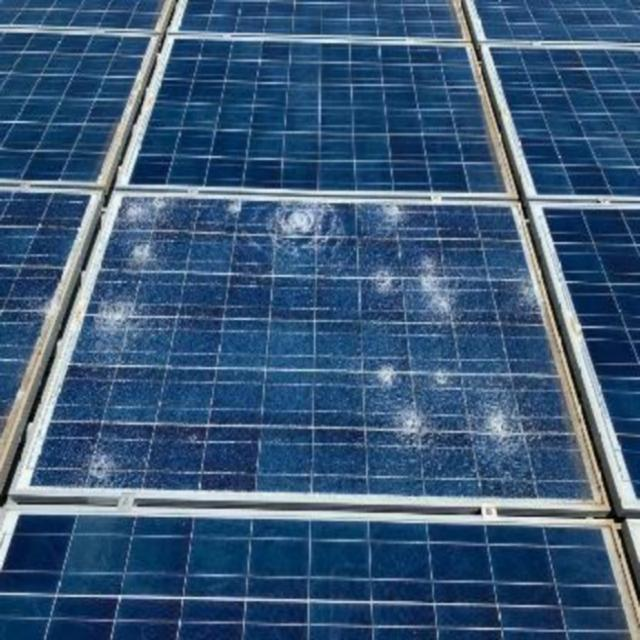cracked: (12, 198, 594, 501)
